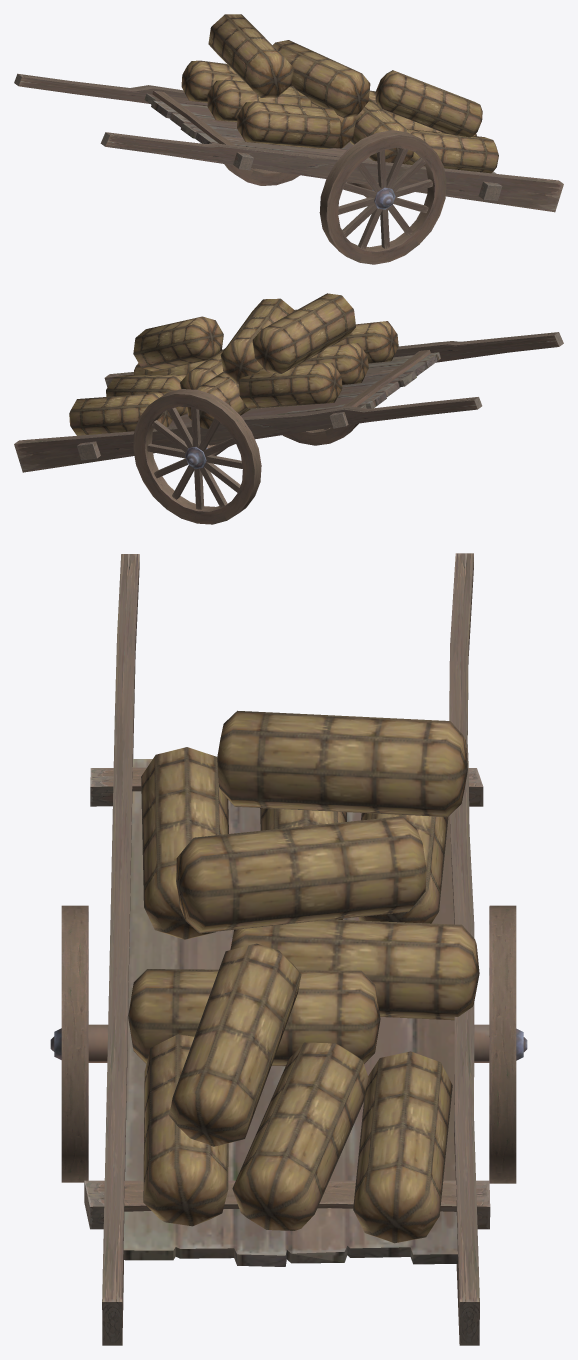
The model's file is Homeworld_Exterior_Dq_Build_TanWei_05_Lod0.fbx.
3 renders of one model, top to bottom at view 1: azimuth 30°, elevation 25°; view 2: azimuth 150°, elevation 25°; view 3: azimuth 270°, elevation 25°, orthographic. The views are drawn at different scales.
Parts seen in each view (by area): view 1: Area_Dq_Prop_Common_Scooter_02_Lod0; view 2: Area_Dq_Prop_Common_Scooter_02_Lod0; view 3: Area_Dq_Prop_Common_Scooter_02_Lod0.
Part boxes in pixels (x1,y1,x2,y2): Area_Dq_Prop_Common_Scooter_02_Lod0: (14, 14, 563, 264); Area_Dq_Prop_Common_Scooter_02_Lod0: (14, 293, 563, 524); Area_Dq_Prop_Common_Scooter_02_Lod0: (50, 553, 527, 1345).
Bounding box in the file's own units: 4.3 × 1.74 × 1.94.
